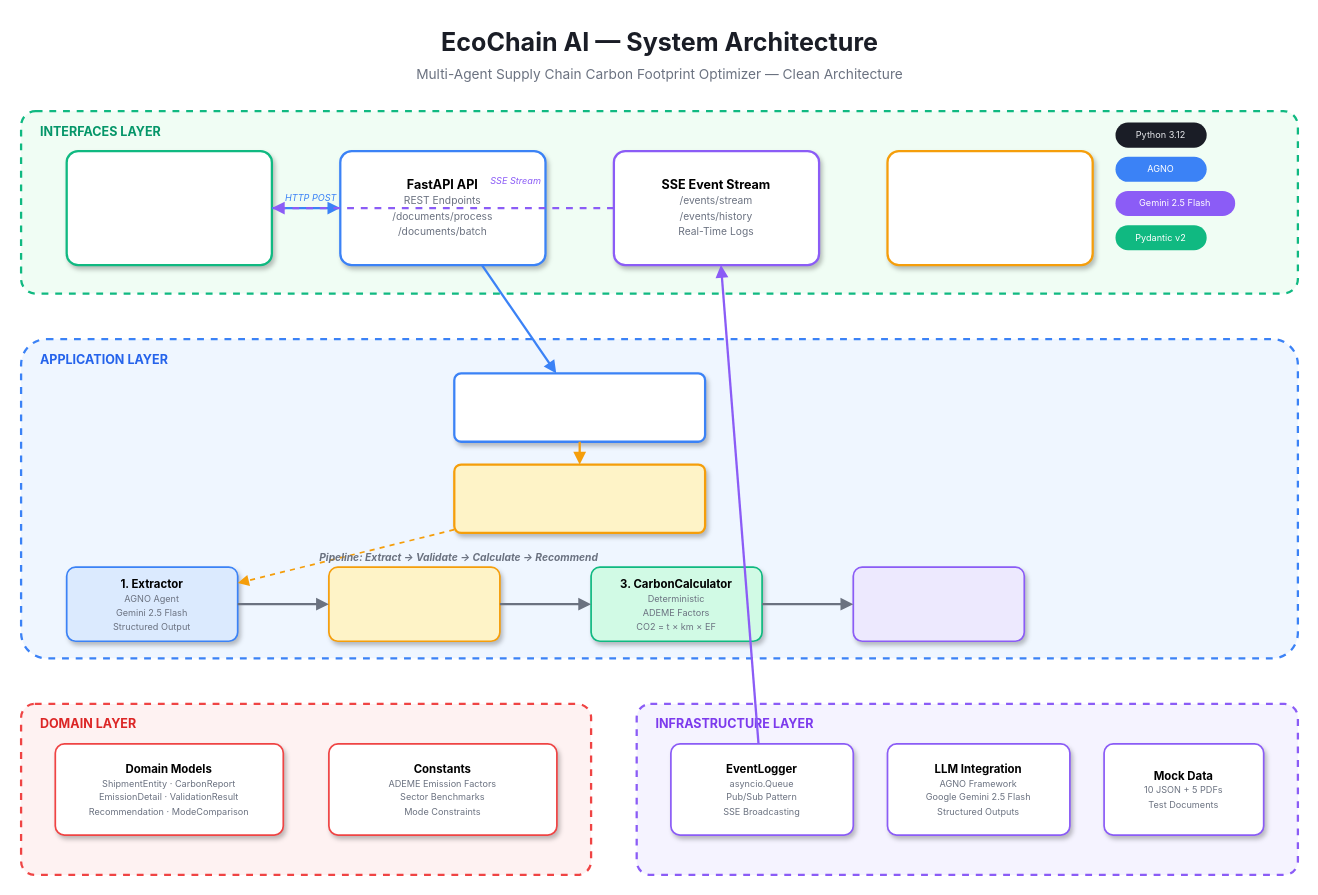
The diagram is 1318 pixels wide and 895 high, and some of its shapes have lost their labels. The shapes that lost their labels are listed below. From the top down, each one's centre as x and y in pixels, then its label:
At point 169,209: "Streamlit Frontend Dashboard + Charts Plotly · Dark Theme PDF Upload · SSE Logs".
At point 990,209: "PDF Upload /documents/upload-pdf File → JSON extraction reportlab generated".
At point 580,408: "ProcessDocumentUseCase Execute single / batch Error handling".
At point 580,500: "🎯 OrchestratorAgent Pipeline Coordinator Sequential Agent Execution".
At point 415,605: "2. Validator AGNO Agent 5 Business Rules + LLM Semantic".
At point 939,605: "4. Recommender AGNO Agent Gemini 2.5 Flash 3 Recommendations".
